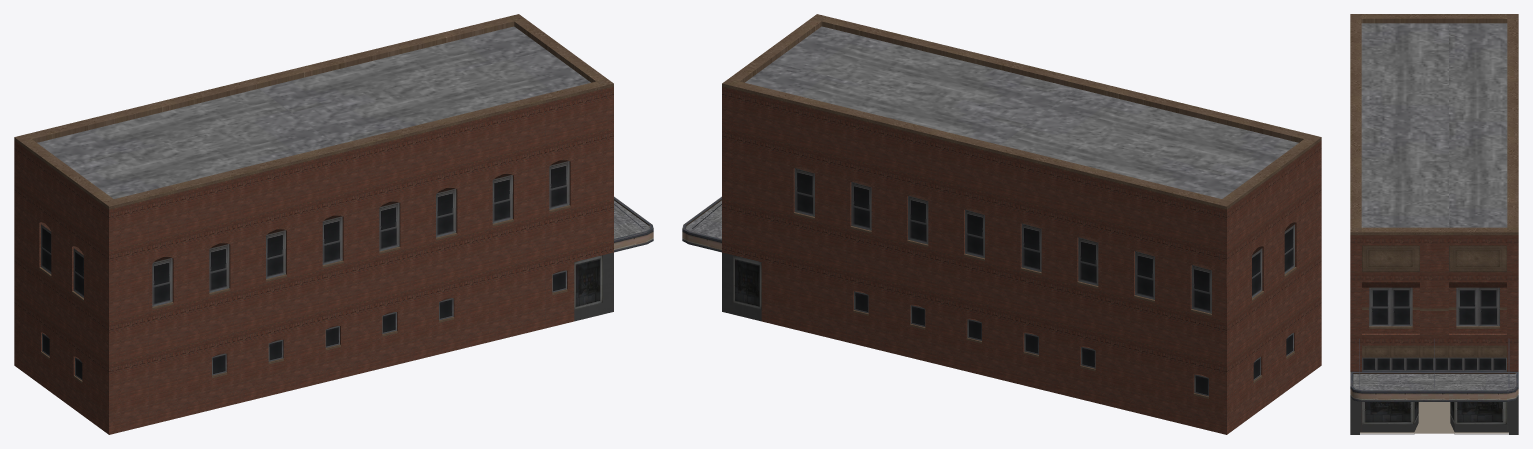
Rendered from brick-shop.access-v2.lod1.glb.
The picture shows the model from 3 angles, left to right: view 1: azimuth 30°, elevation 25°; view 2: azimuth 150°, elevation 25°; view 3: azimuth 270°, elevation 25°; orthographic projection. The views are drawn at different scales.
Parts seen in each view (by area): view 1: Object_4; view 2: Object_4; view 3: Object_4, Walkable floors and stairs.
Part boxes in pixels (left/top/right/bottom): Object_4: left=14, top=14, right=653, bottom=434; Object_4: left=682, top=14, right=1321, bottom=434; Object_4: left=1350, top=14, right=1518, bottom=434; Walkable floors and stairs: left=1360, top=402, right=1508, bottom=433.
Bounding box in the file's own units: 24.23 × 9.61 × 7.24.
2 materials, 1 textured.
